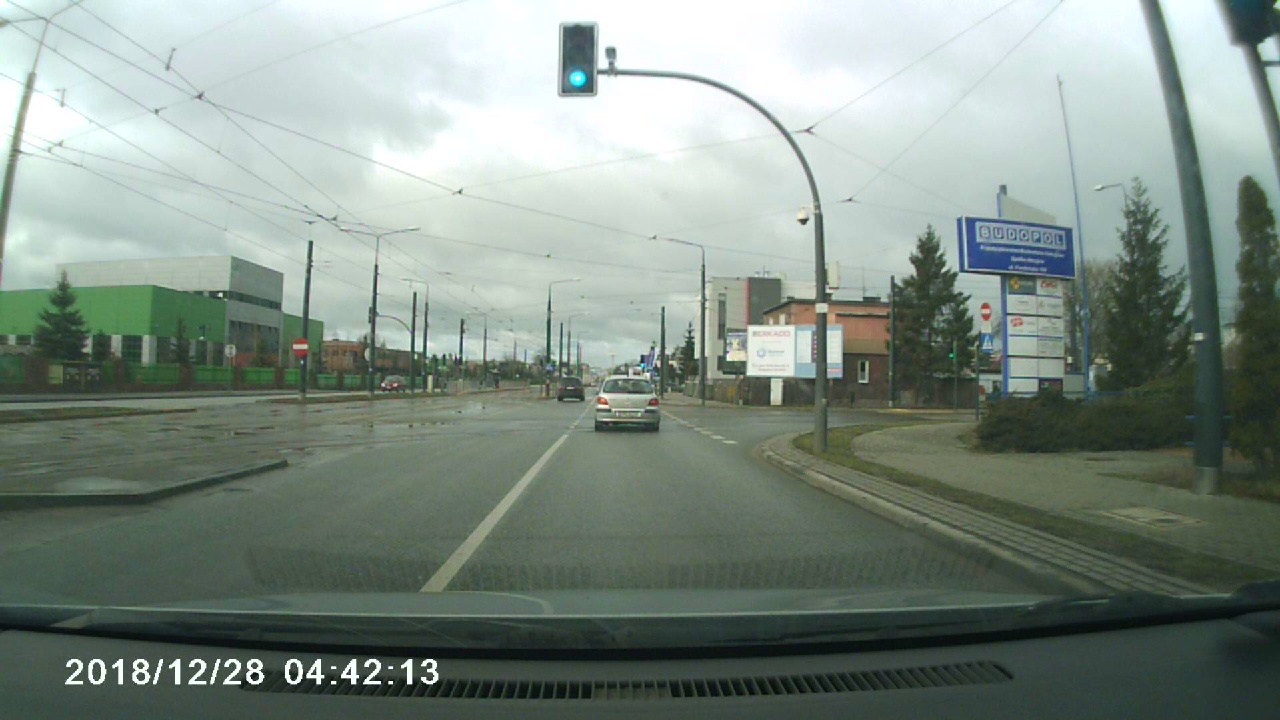B2: (288, 337, 310, 355), (978, 302, 996, 320)
